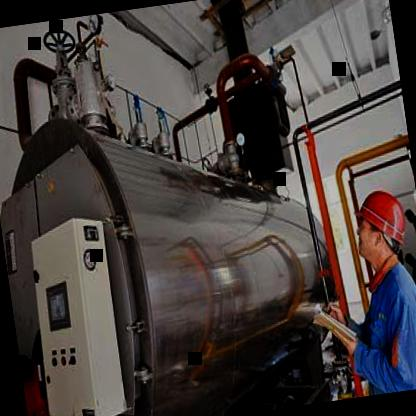helmet: (345, 174, 416, 277)
